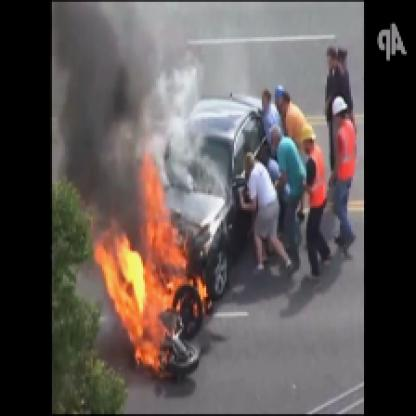Fire: (95, 146, 223, 380)
Smoke: (54, 2, 150, 221)
